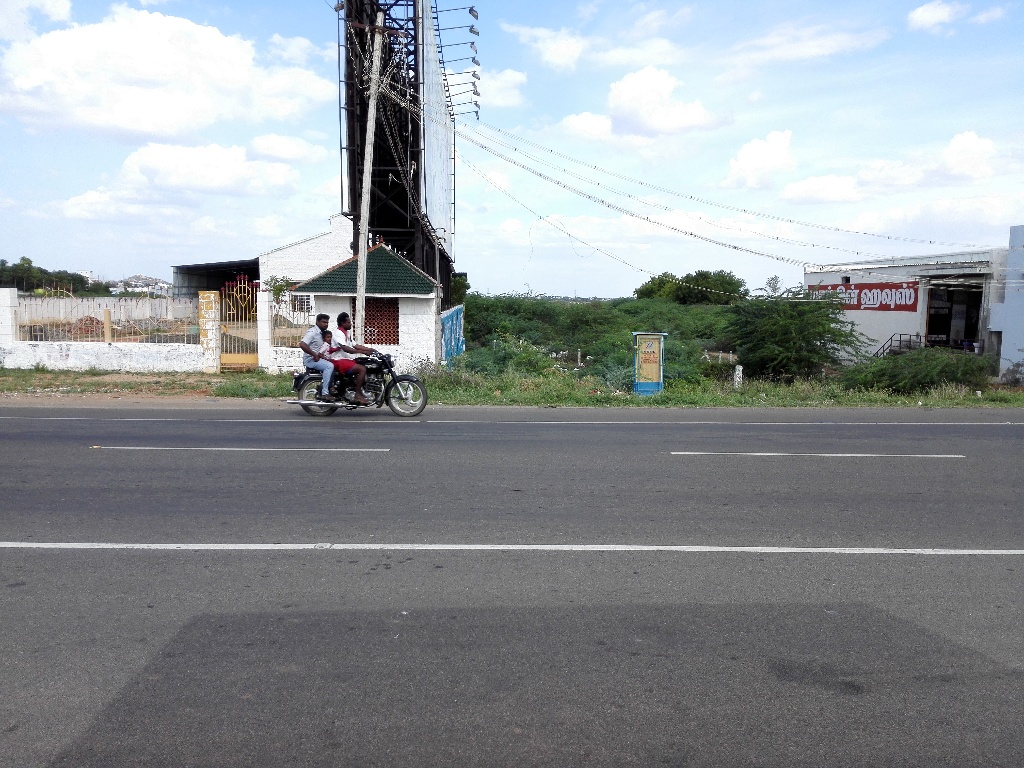biker: (277, 291, 440, 429)
nohelmet: (334, 307, 359, 335), (313, 310, 332, 332), (321, 331, 336, 349)
